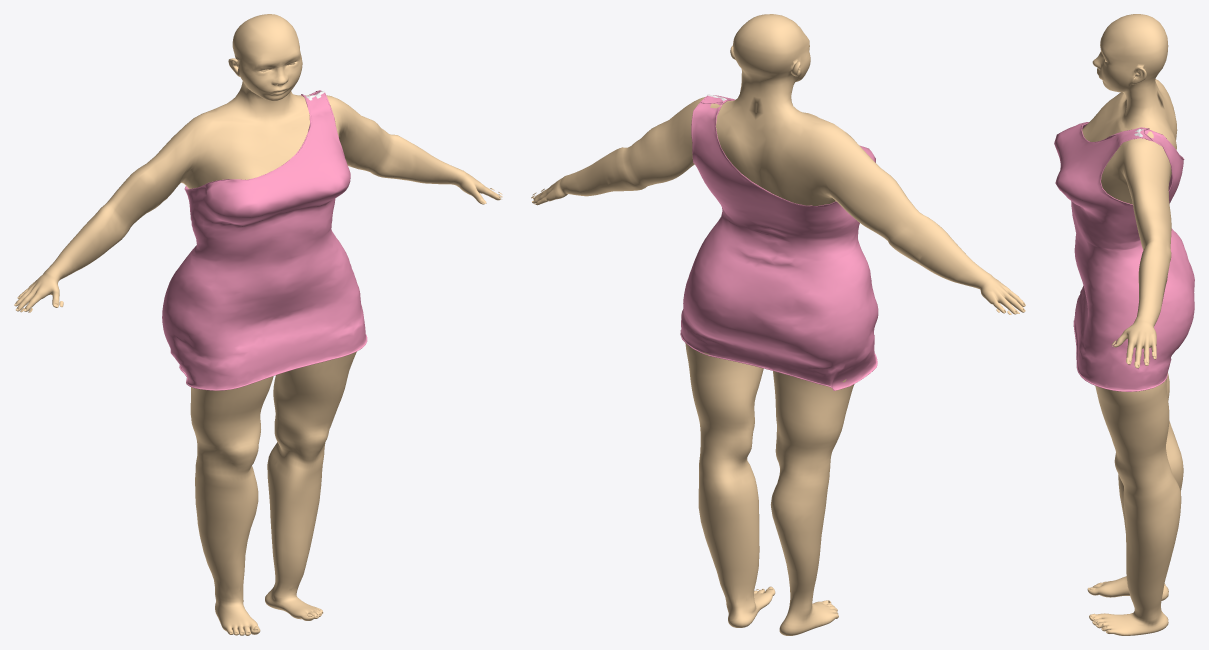
The model's file is dress1.glb.
The picture shows the model from 3 angles, left to right: view 1: azimuth 30°, elevation 25°; view 2: azimuth 150°, elevation 25°; view 3: azimuth 270°, elevation 25°; orthographic projection.
Parts seen in each view (by area): view 1: Body, WhiteDress; view 2: Body, WhiteDress; view 3: Body, WhiteDress.
Part boxes in pixels (x1,y1,x2,y2): Body: [14, 14, 501, 635]; WhiteDress: [162, 90, 367, 390]; Body: [532, 14, 1025, 635]; WhiteDress: [680, 94, 878, 390]; Body: [1082, 14, 1183, 635]; WhiteDress: [1054, 122, 1194, 391].
Size of the model in its own units: 1.59 by 1.88 by 0.3984.
